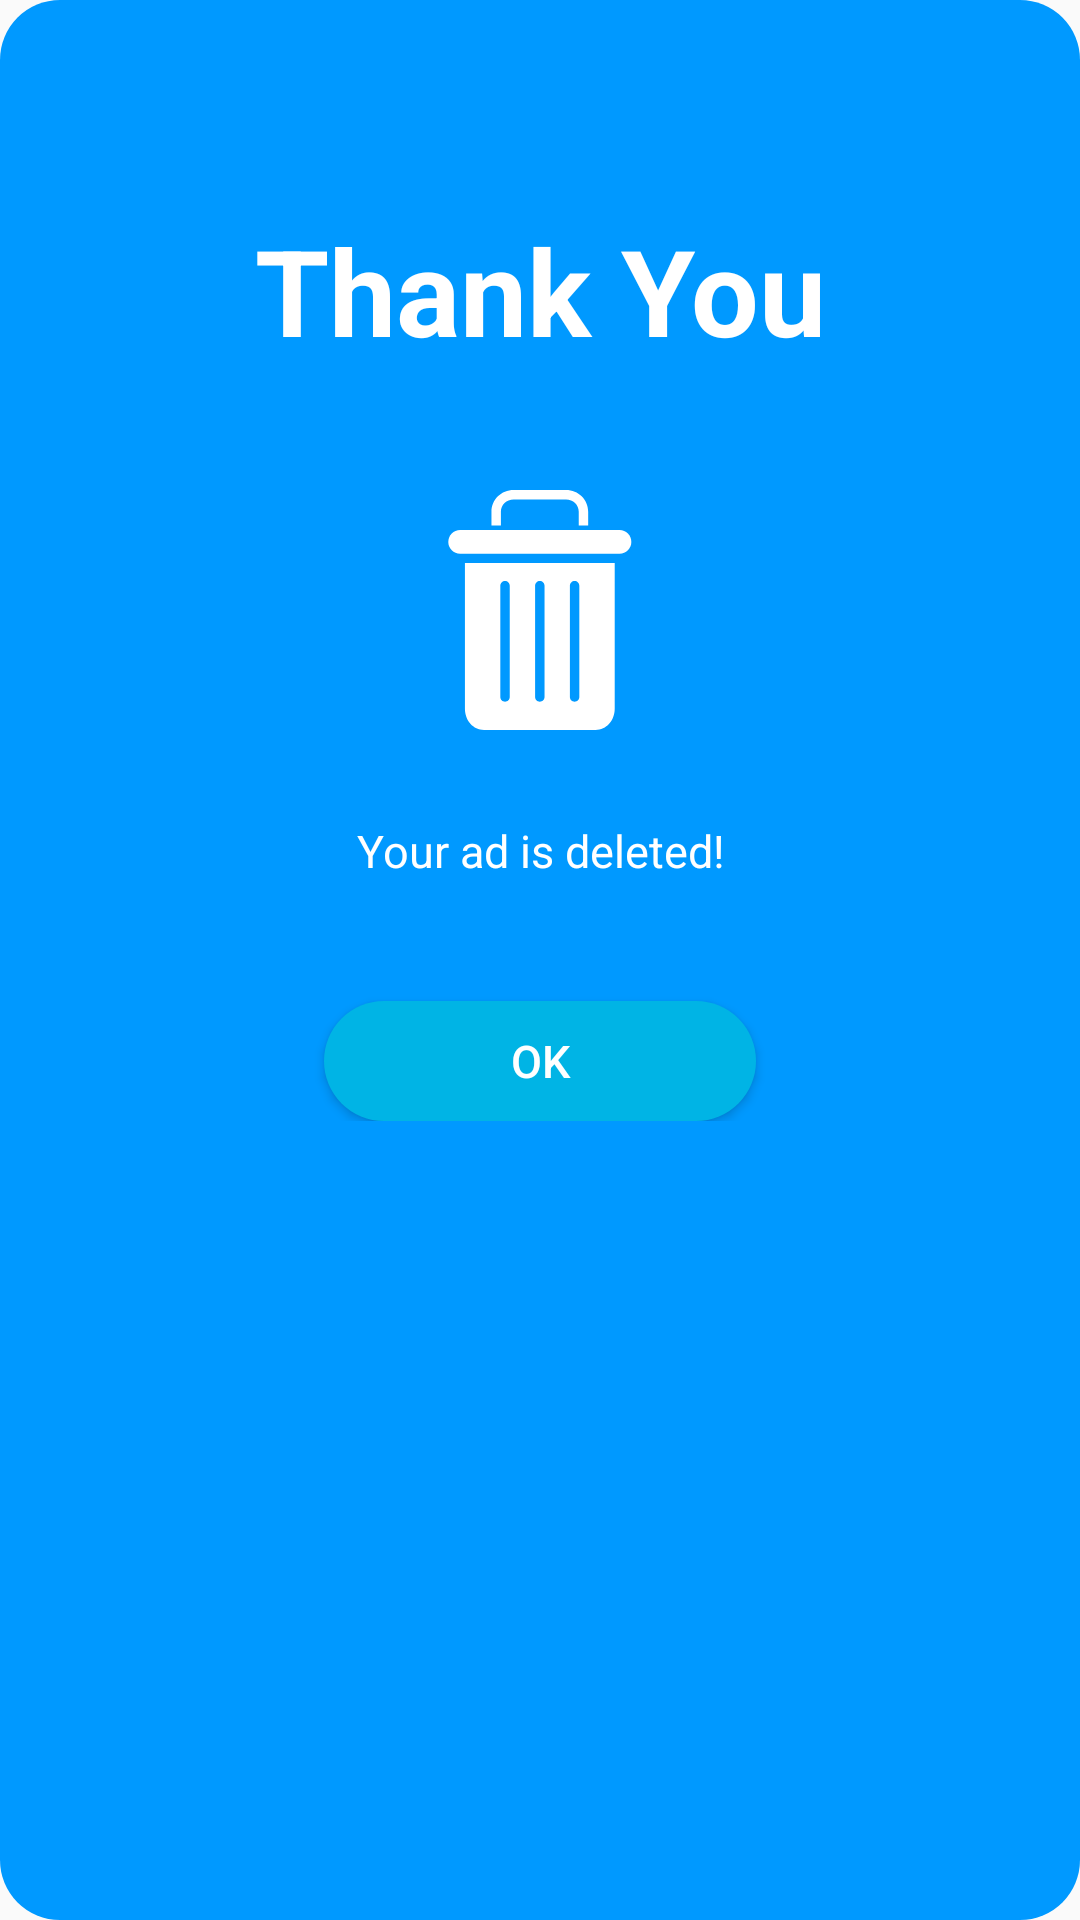

Locate icon controls on the screen. Image size 1080px x 1920px, boxes as (x1, y1, x2, y2).
bin: (448, 490, 632, 730)
